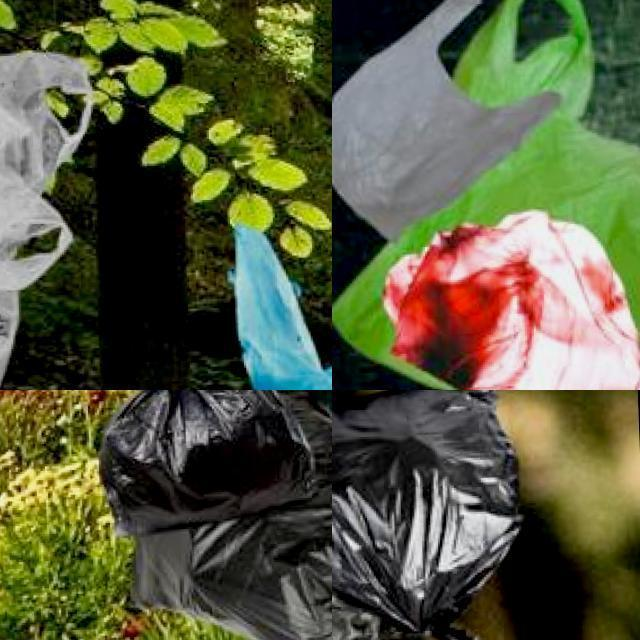waste: (332, 0, 640, 390), (122, 390, 332, 640), (332, 0, 562, 228), (332, 390, 531, 639), (108, 390, 318, 533), (0, 54, 100, 294), (225, 222, 332, 390), (332, 493, 392, 640)
